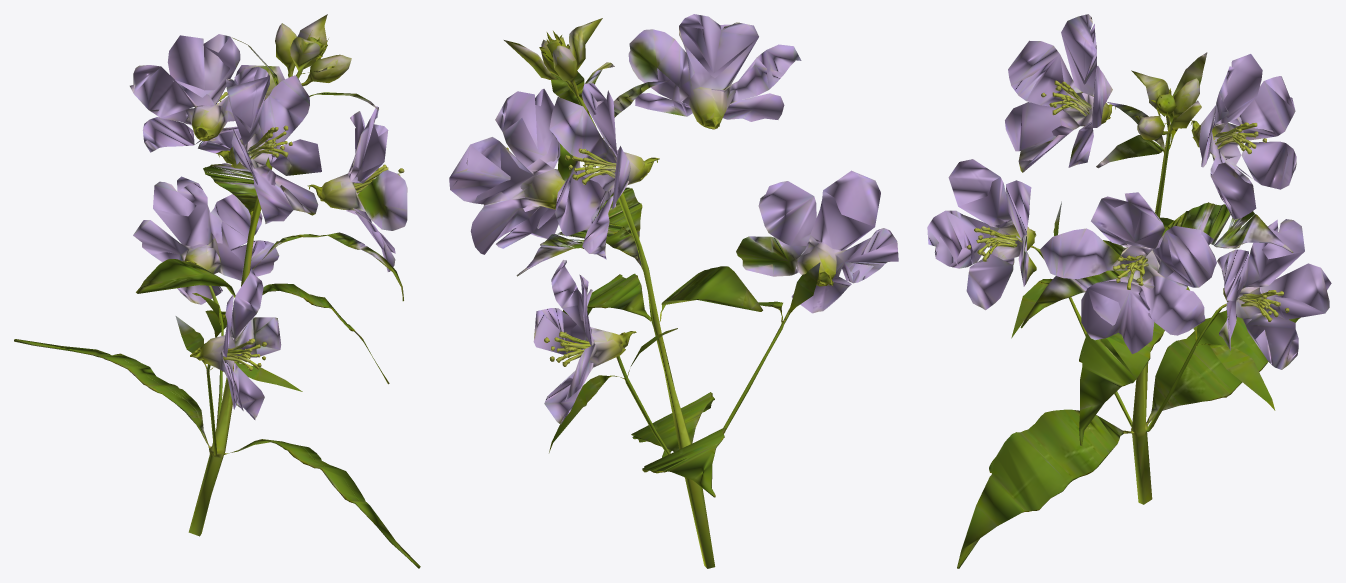
File: ZiXiaXianRui.glb
3 views of the same model, side by side, from view 1: azimuth 30°, elevation 25°; view 2: azimuth 150°, elevation 25°; view 3: azimuth 270°, elevation 25° (orthographic). The views are drawn at different scales.
Parts seen in each view (by area): view 1: tripo_node_2a1a2cb1-c46d-4cc3-bc37-21cc5733bf24; view 2: tripo_node_2a1a2cb1-c46d-4cc3-bc37-21cc5733bf24; view 3: tripo_node_2a1a2cb1-c46d-4cc3-bc37-21cc5733bf24.
Part boxes in pixels (bbox=[...]): tripo_node_2a1a2cb1-c46d-4cc3-bc37-21cc5733bf24: bbox=[14, 14, 420, 568]; tripo_node_2a1a2cb1-c46d-4cc3-bc37-21cc5733bf24: bbox=[449, 14, 898, 568]; tripo_node_2a1a2cb1-c46d-4cc3-bc37-21cc5733bf24: bbox=[927, 14, 1331, 568].
Size of the model in its own units: 0.6504 by 0.998 by 0.7441.
1 material, 1 textured.
